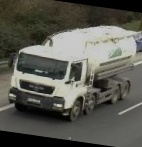truck: (6, 13, 140, 130)
